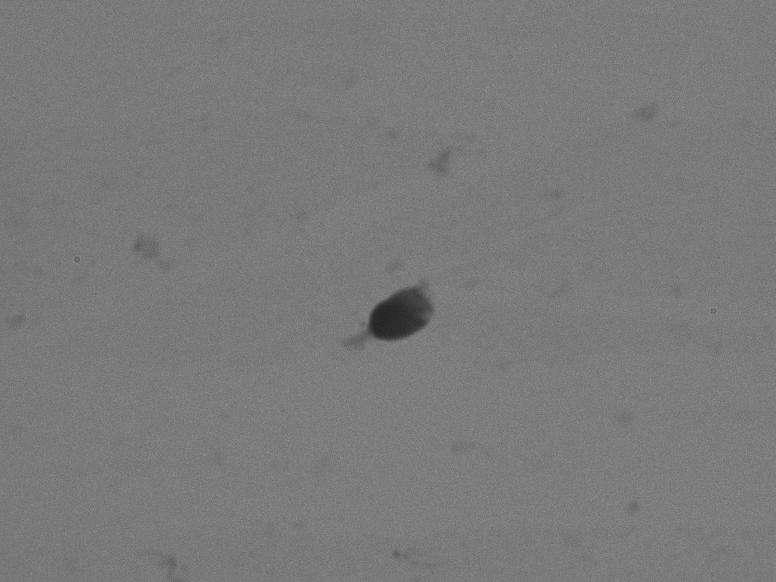Abnormal: (156, 229, 493, 429)
